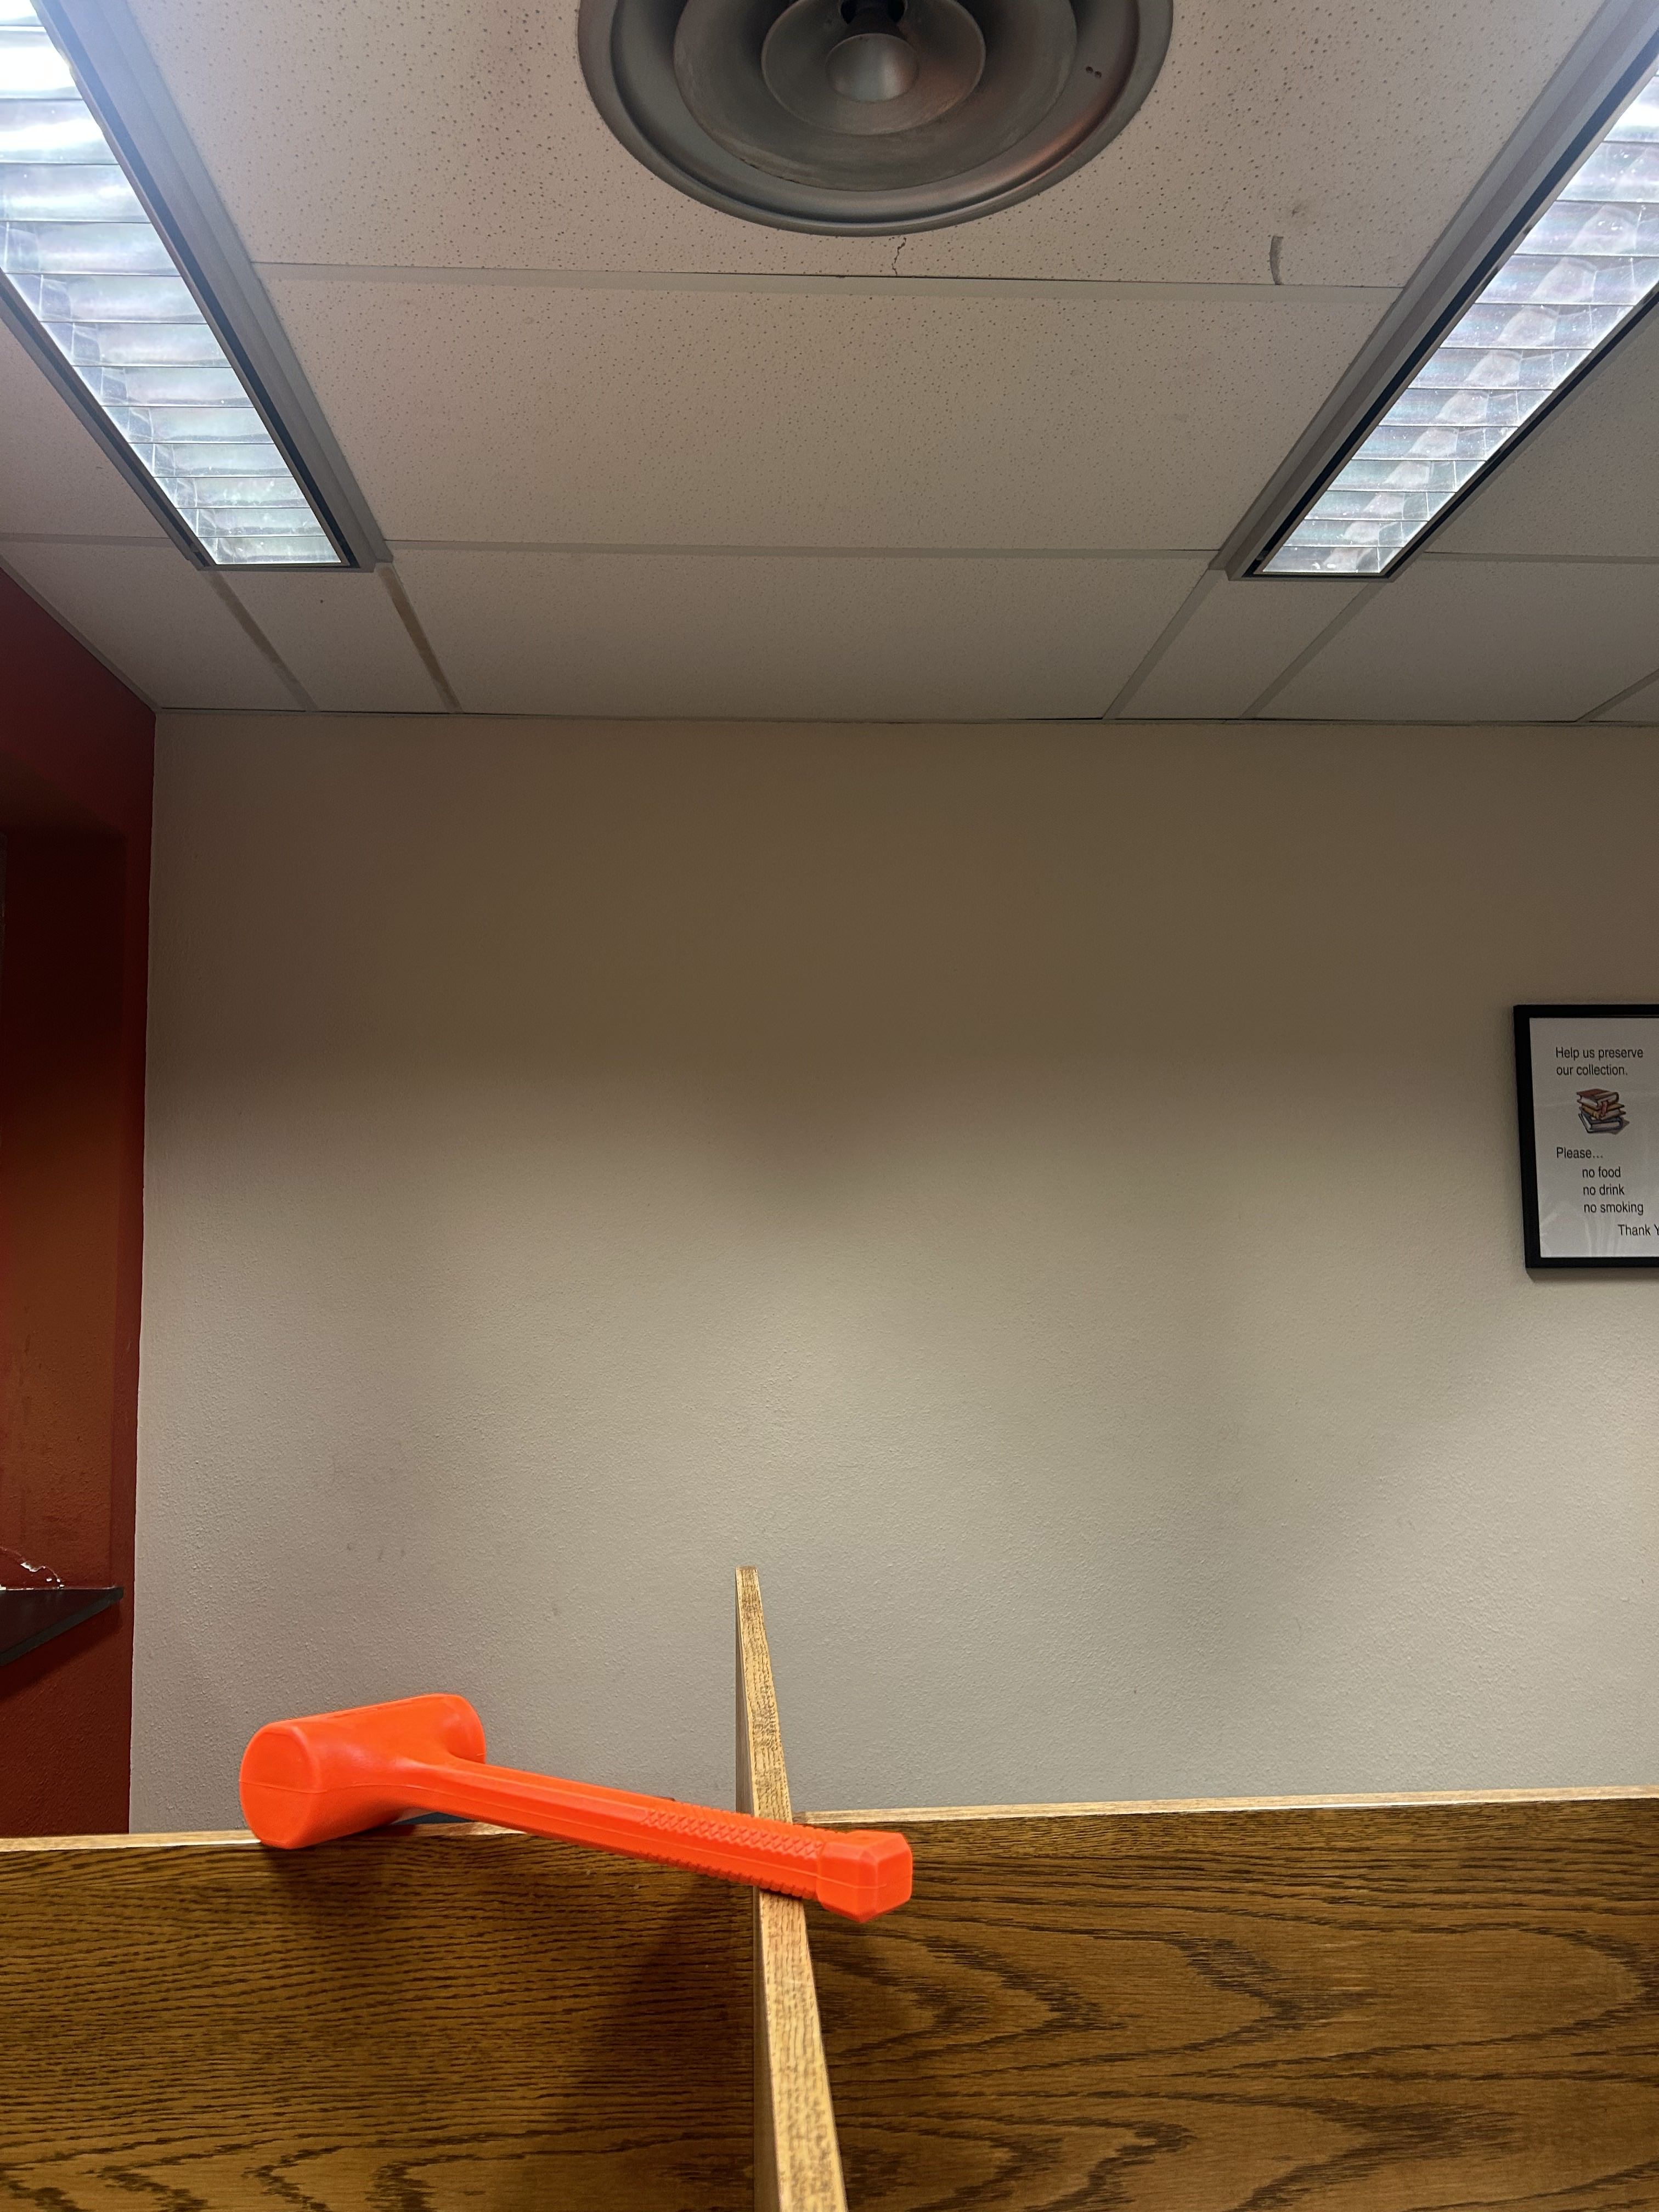Hammer: (188, 1646, 934, 1961)
